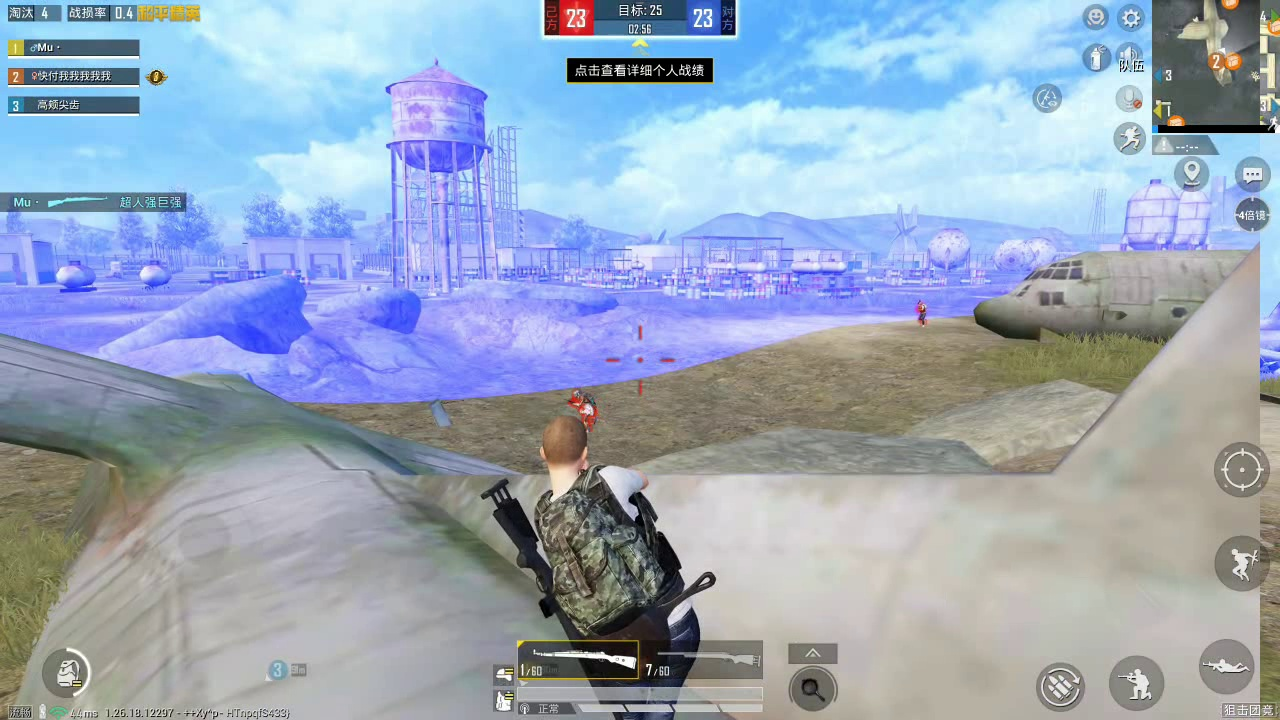enemy: (568, 388, 601, 434), (915, 298, 927, 327)
